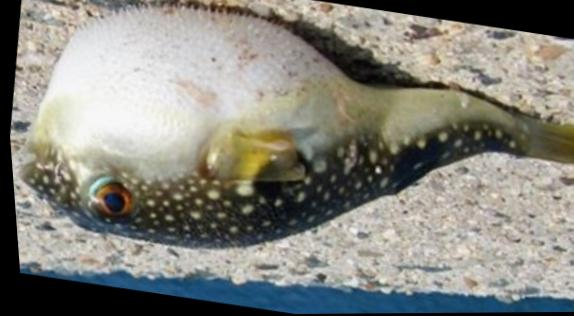fish: (18, 8, 574, 248)
